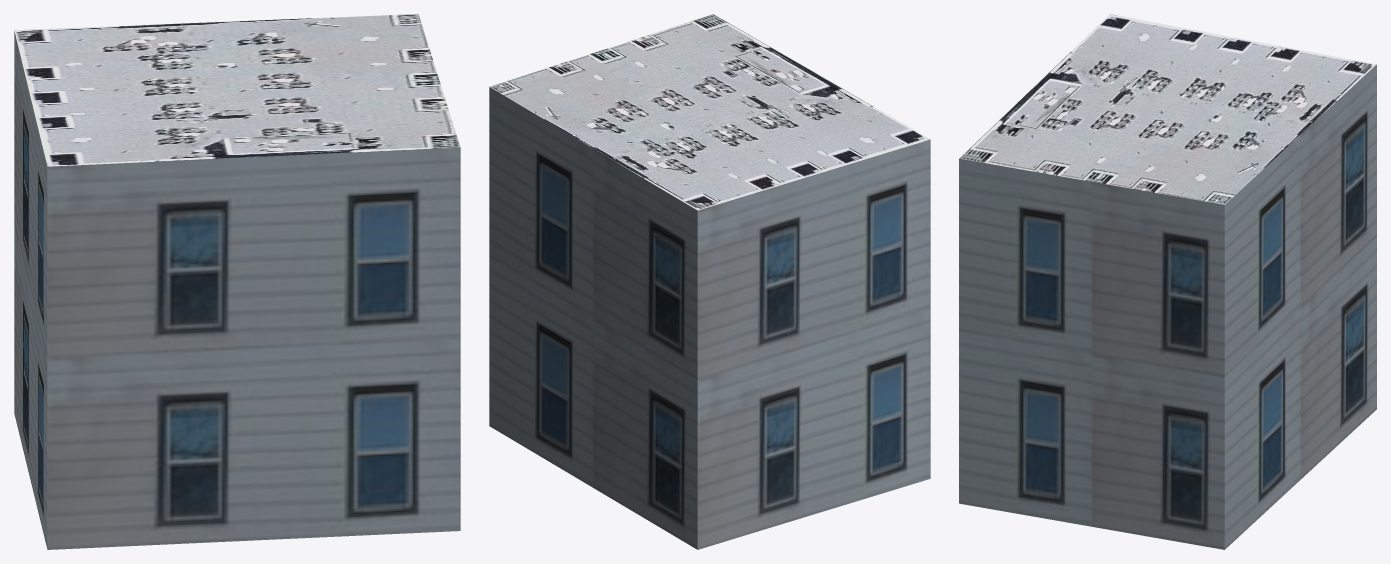
File: ResTex__569.fbx
3 views of the same model, side by side, from view 1: azimuth 30°, elevation 25°; view 2: azimuth 150°, elevation 25°; view 3: azimuth 270°, elevation 25° (orthographic). The views are drawn at different scales.
Parts seen in each view (by area): view 1: CityEngineMaterial_18_m, CityEngineMaterial_4_m; view 2: CityEngineMaterial_18_m, CityEngineMaterial_4_m; view 3: CityEngineMaterial_18_m, CityEngineMaterial_4_m.
Boxes of the visible parts, bbox=[...] form: CityEngineMaterial_18_m: bbox=[14, 31, 460, 549]; CityEngineMaterial_4_m: bbox=[14, 14, 460, 166]; CityEngineMaterial_18_m: bbox=[489, 87, 930, 549]; CityEngineMaterial_4_m: bbox=[489, 14, 930, 210]; CityEngineMaterial_18_m: bbox=[959, 65, 1376, 549]; CityEngineMaterial_4_m: bbox=[959, 14, 1376, 204].
Bounding box in the file's own units: 7.12 × 6 × 6.58.
Materials: 2 (2 with a texture image).
